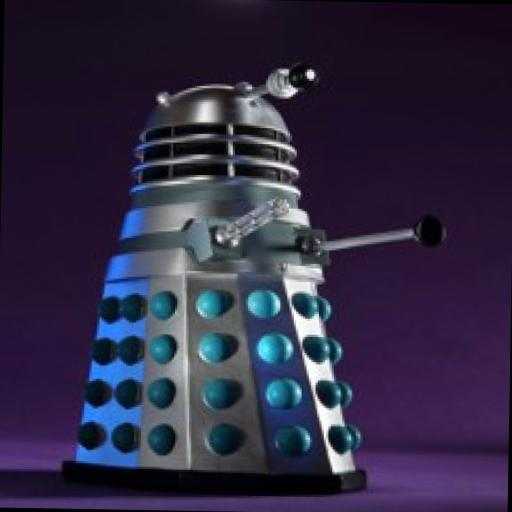dalek: (57, 55, 454, 495)
